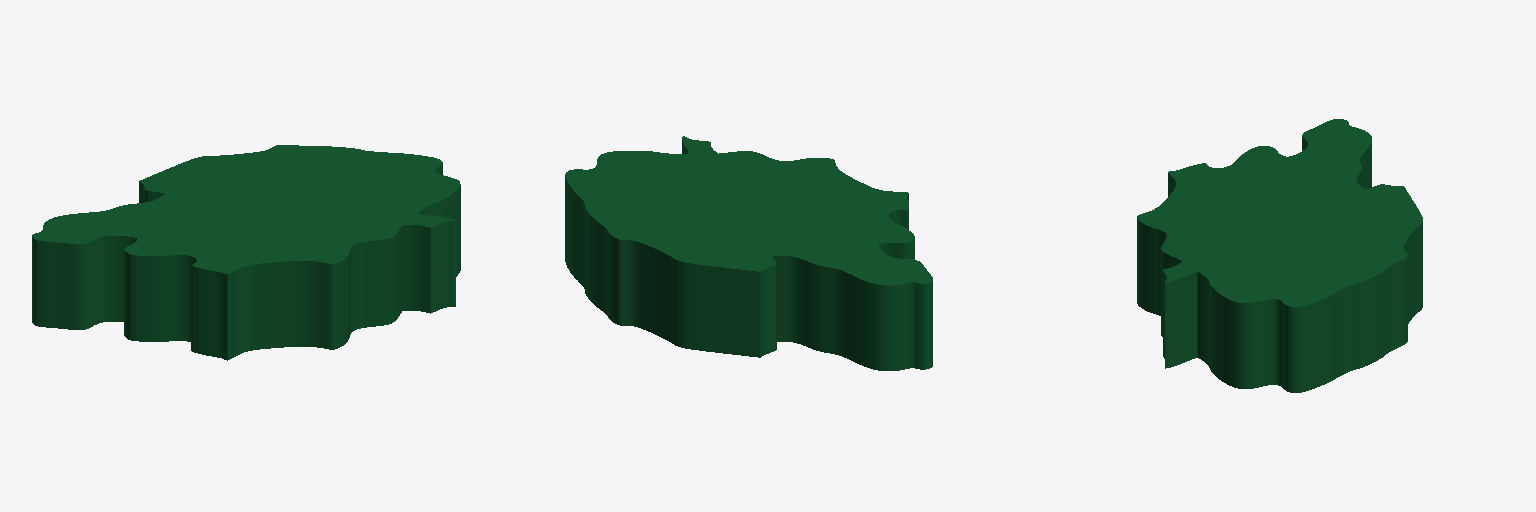
3 views of the same model, side by side, from view 1: azimuth 30°, elevation 25°; view 2: azimuth 150°, elevation 25°; view 3: azimuth 270°, elevation 25° (orthographic).
Parts seen in each view (by area): view 1: Curve.035_path4252; view 2: Curve.035_path4252; view 3: Curve.035_path4252.
Boxes of the visible parts, x1,y1,x2,y2 form: Curve.035_path4252: [32, 145, 460, 360]; Curve.035_path4252: [565, 136, 932, 370]; Curve.035_path4252: [1137, 119, 1422, 392].
Bounding box in the file's own units: 0.47 × 0.1 × 0.3018.